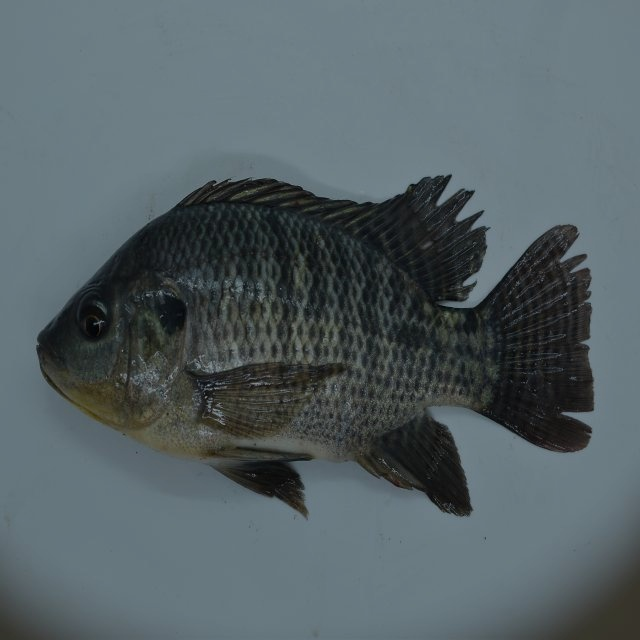Healthy Fish: (34, 173, 602, 520)
